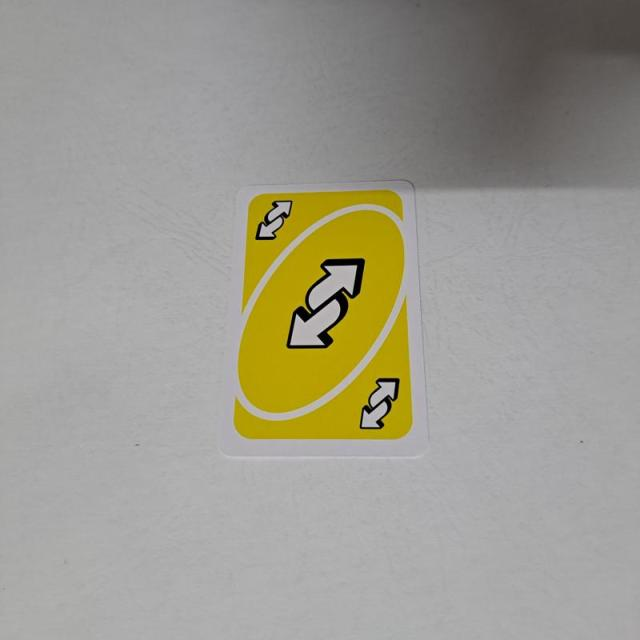Reverse: (252, 190, 298, 248)
Yellow_Card: (228, 184, 417, 450)
